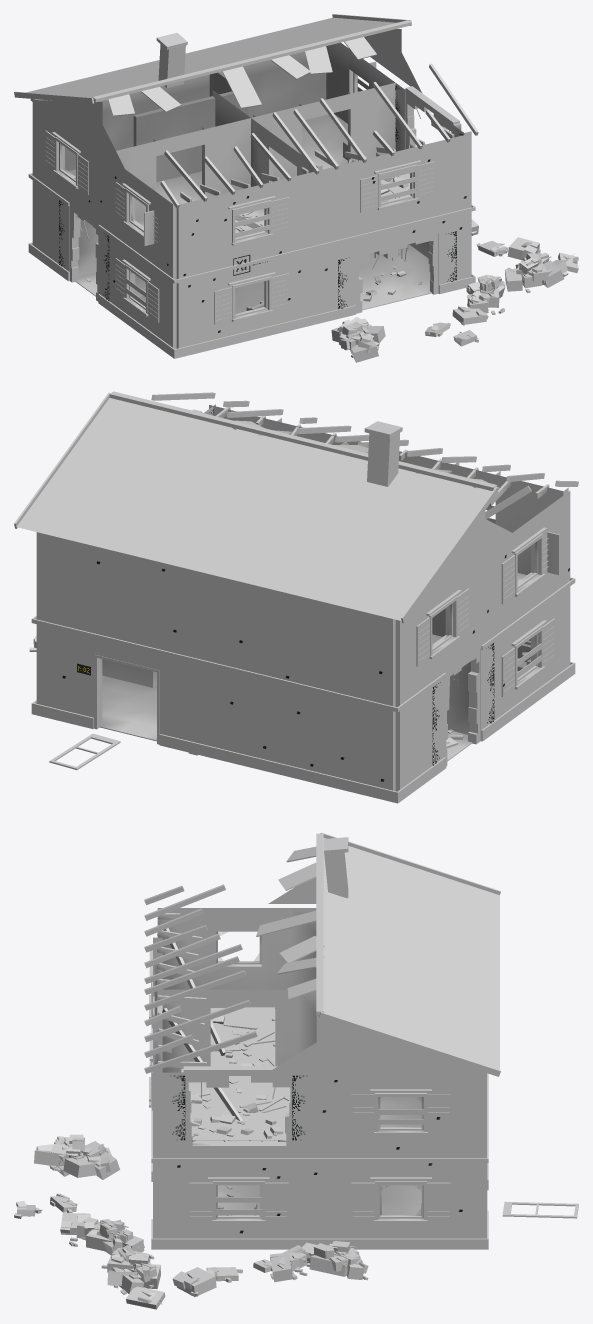
File: old_house_1.glb
3 views of the same model, one above another, from view 1: azimuth 30°, elevation 25°; view 2: azimuth 150°, elevation 25°; view 3: azimuth 270°, elevation 25° (orthographic). The views are drawn at different scales.
Visible parts, largest first — view 1: old_house_1; view 2: old_house_1; view 3: old_house_1.
Part boxes in pixels (bbox=[...]): old_house_1: bbox=[14, 14, 578, 362]; old_house_1: bbox=[14, 391, 578, 803]; old_house_1: bbox=[14, 832, 578, 1309].
Bounding box in the file's own units: 17.04 × 9.78 × 17.42.
4 materials, 3 textured.
